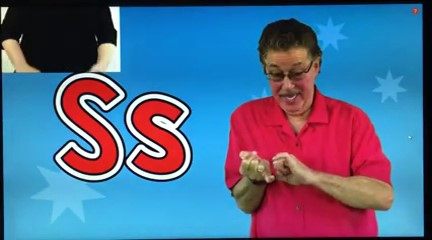S: (229, 144, 317, 195)
